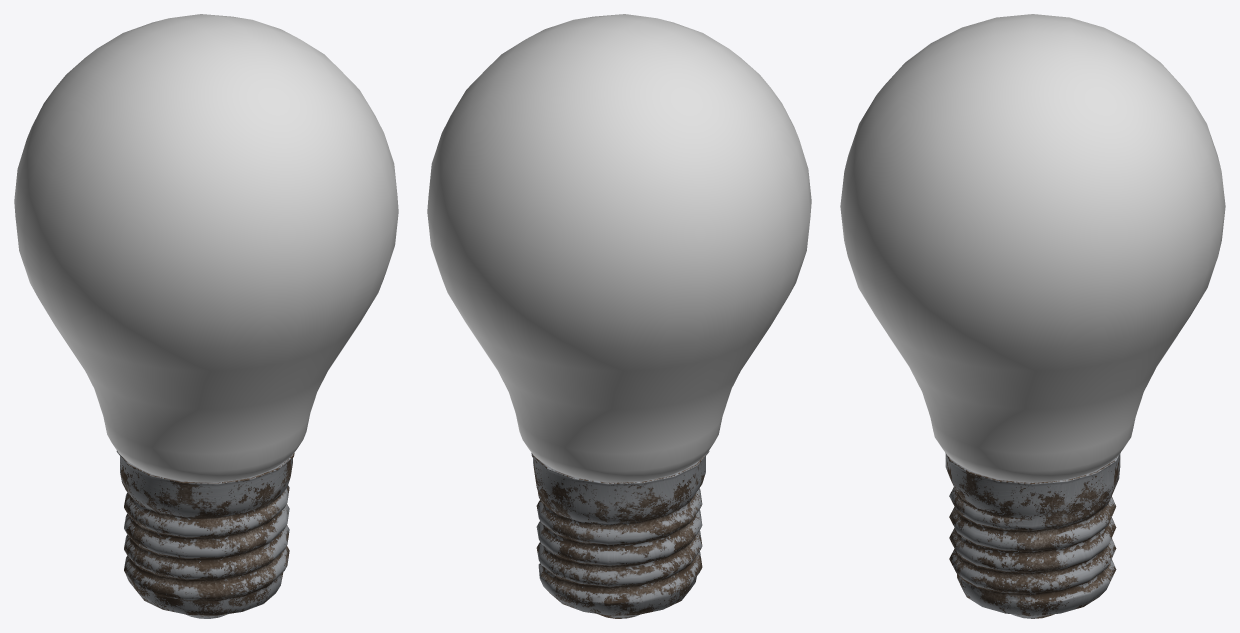
The model's file is LightBulb.fbx.
3 renders of one model, left to right at view 1: azimuth 30°, elevation 25°; view 2: azimuth 150°, elevation 25°; view 3: azimuth 270°, elevation 25°, orthographic.
Parts seen in each view (by area): view 1: Lightbulb; view 2: Lightbulb; view 3: Lightbulb.
Part boxes in pixels (box(x1,y1,x2,y2)): Lightbulb: box(14, 14, 398, 618); Lightbulb: box(427, 14, 811, 618); Lightbulb: box(840, 14, 1225, 618).
Size of the model in its own units: 6 by 10.03 by 6.
2 materials, 1 textured.
